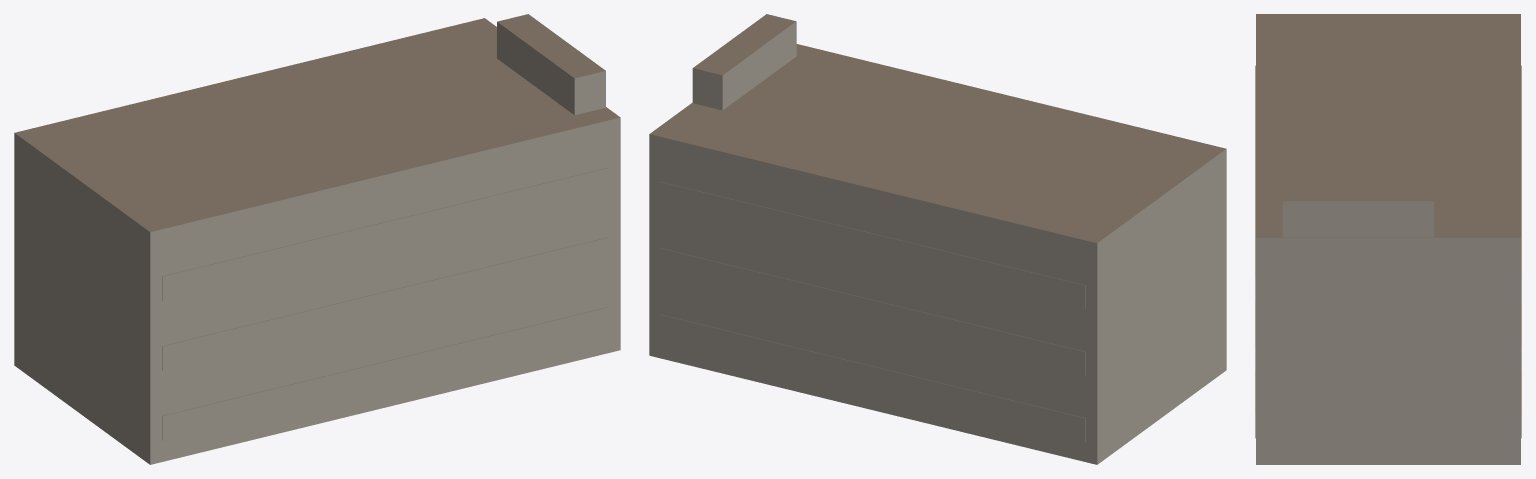
File: ew-control-house.far-facades-v1.lod2.glb
3 renders of one model, left to right at view 1: azimuth 30°, elevation 25°; view 2: azimuth 150°, elevation 25°; view 3: azimuth 270°, elevation 25°, orthographic. The views are drawn at different scales.
Visible parts, largest first — view 1: ew-control-house; view 2: ew-control-house; view 3: ew-control-house.
Boxes of the visible parts, x1,y1,x2,y2 form: ew-control-house: (14, 14, 620, 464); ew-control-house: (649, 14, 1226, 464); ew-control-house: (1255, 14, 1521, 464).
Size of the model in its own units: 24 by 13.15 by 12.06.
